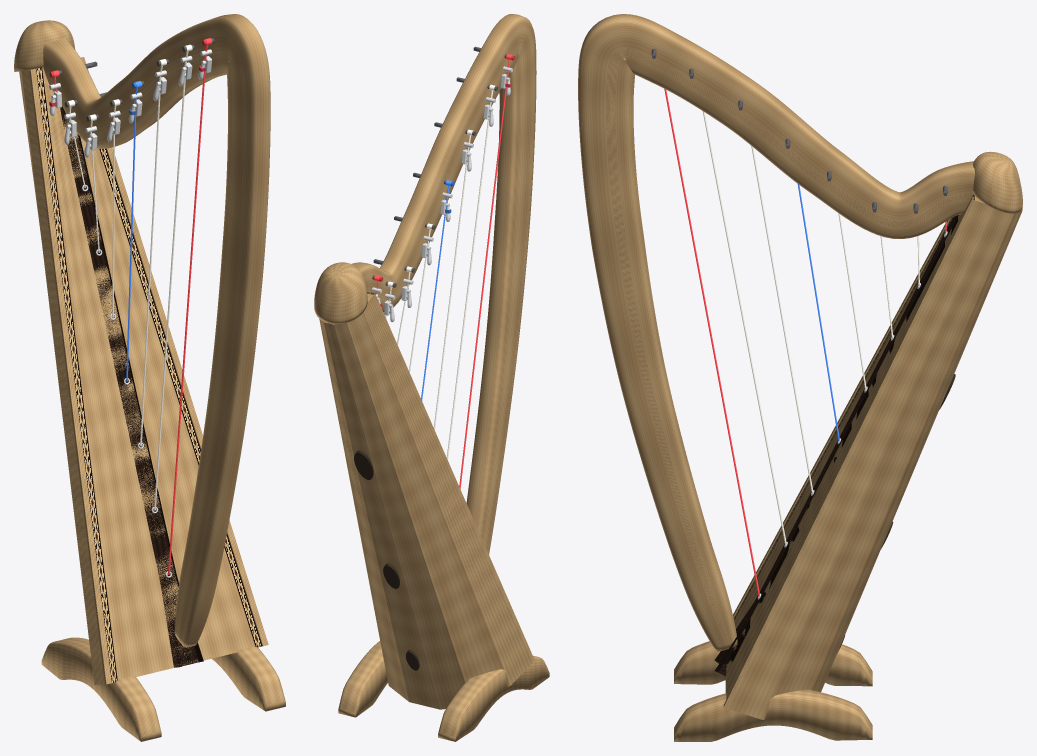
Rendered from celtic_harp_8string_v5_backup.glb.
3 views of the same model, side by side, from view 1: azimuth 30°, elevation 25°; view 2: azimuth 150°, elevation 25°; view 3: azimuth 270°, elevation 25° (orthographic). The views are drawn at different scales.
Parts seen in each view (by area): view 1: Harp_Soundboard_Face, Harp_Neck_And_Forepillar, Harp_Central_String_Rib, Harp_Soundbox_Staves, Harp_Soundboard_EdgeRail_-1, Harp_Arched_Leg_1, Harp_Diamond_Purfling_-1, Harp_Diamond_Purfling_1, Harp_Soundboard_EdgeRail_1, Harp_Arched_Leg_2, Harp_Domed_Knee_Cap, String_1 (+3 smaller); view 2: Harp_Soundbox_Staves, Harp_Neck_And_Forepillar, Harp_Arched_Leg_1, Harp_Domed_Knee_Cap, Harp_Arched_Leg_2, Harp_Soundboard_EdgeRail_-1, String_1, String_2, String_3, Harp_Rear_Soundhole_3, String_4; view 3: Harp_Neck_And_Forepillar, Harp_Soundbox_Staves, Harp_Soundboard_Face, Harp_Arched_Leg_2, Harp_Central_String_Rib, Harp_Arched_Leg_1, Harp_Soundboard_EdgeRail_1, Harp_Domed_Knee_Cap, Harp_Soundboard_EdgeRail_-1, String_1, String_2, Harp_Diamond_Purfling_-1 (+1 smaller).
Boxes of the visible parts, box(x1,y1,x2,y2) form: Harp_Soundboard_Face: box(31, 67, 255, 679); Harp_Neck_And_Forepillar: box(43, 14, 270, 647); Harp_Central_String_Rib: box(60, 106, 203, 667); Harp_Soundbox_Staves: box(19, 57, 104, 684); Harp_Soundboard_EdgeRail_-1: box(29, 69, 111, 684); Harp_Arched_Leg_1: box(41, 637, 161, 741); Harp_Diamond_Purfling_-1: box(36, 67, 117, 682); Harp_Diamond_Purfling_1: box(99, 148, 262, 647); Harp_Soundboard_EdgeRail_1: box(81, 57, 268, 646); Harp_Arched_Leg_2: box(212, 646, 285, 711); Harp_Domed_Knee_Cap: box(14, 20, 75, 71); String_1: box(168, 55, 206, 574); Harp_Soundbox_Staves: box(319, 293, 533, 709); Harp_Neck_And_Forepillar: box(352, 14, 536, 554); Harp_Arched_Leg_1: box(438, 655, 549, 741); Harp_Domed_Knee_Cap: box(314, 262, 367, 324); Harp_Arched_Leg_2: box(338, 641, 388, 717); Harp_Soundboard_EdgeRail_-1: box(369, 292, 534, 661); String_1: box(459, 71, 508, 488); String_2: box(446, 102, 491, 459); String_3: box(433, 147, 469, 430); Harp_Rear_Soundhole_3: box(354, 450, 373, 479); String_4: box(421, 197, 447, 400); Harp_Neck_And_Forepillar: box(578, 14, 974, 651); Harp_Soundbox_Staves: box(726, 195, 1022, 719); Harp_Soundboard_Face: box(725, 195, 974, 698); Harp_Arched_Leg_2: box(674, 689, 872, 741); Harp_Central_String_Rib: box(714, 215, 958, 675); Harp_Arched_Leg_1: box(674, 641, 872, 686); Harp_Soundboard_EdgeRail_1: box(723, 196, 974, 708); Harp_Domed_Knee_Cap: box(972, 151, 1022, 213); Harp_Soundboard_EdgeRail_-1: box(733, 218, 950, 618); String_1: box(664, 89, 759, 596); String_2: box(702, 111, 786, 544); Harp_Diamond_Purfling_-1: box(734, 217, 952, 620).
Bounding box in the file's own units: 0.324 × 1.38 × 0.8057.
13 materials, 3 textured.
